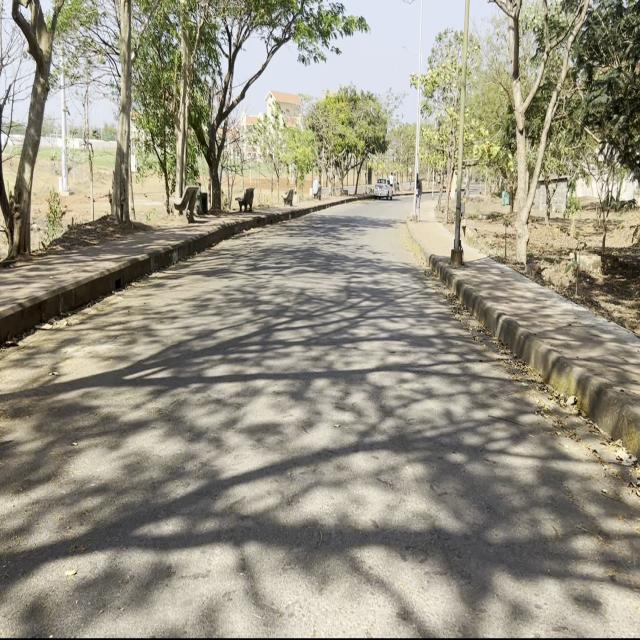Road: (3, 197, 633, 623)
